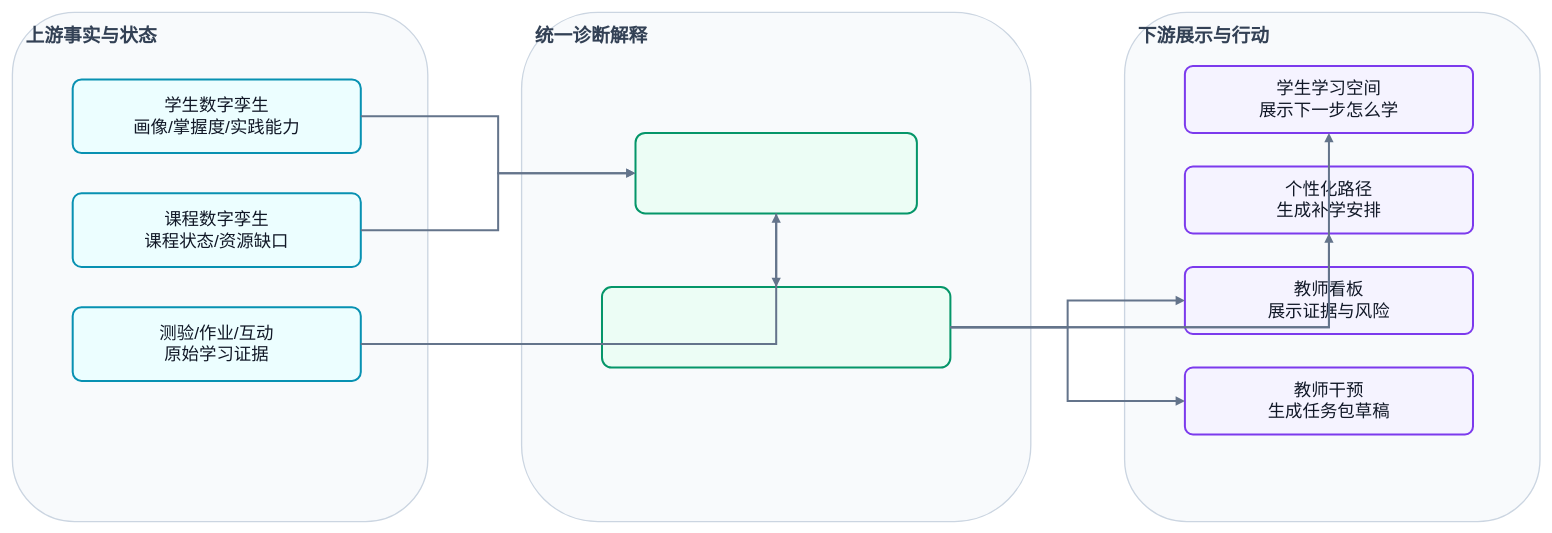
Image size: 1552x533. Some labels were removed from this diagram. The centre of each missing label's shape, as x and y in pixels:
统一输出 原因解释/依据等级/建议动作: point 776,327
诊断智能体: point 776,173
